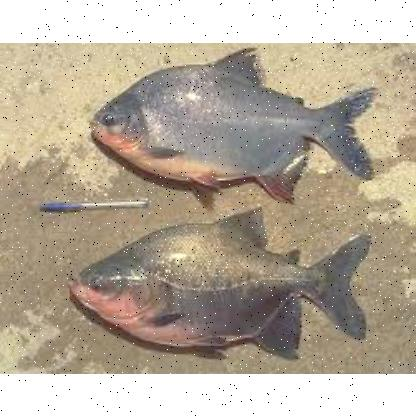ikan-pacu: (68, 214, 378, 352), (88, 60, 368, 196)
